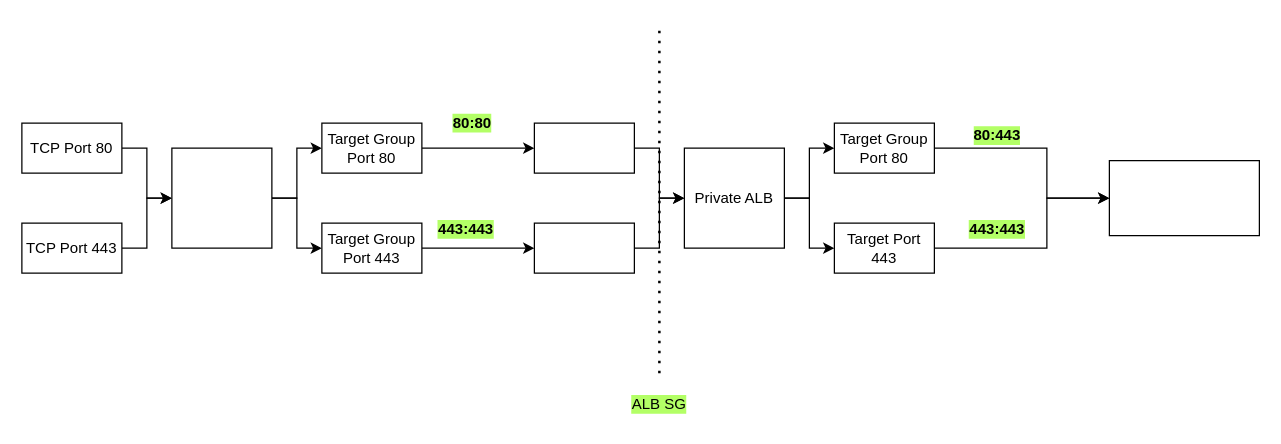
The diagram is 1281 pixels wide and 444 high, and some of its shapes have lost their labels. The shapes that lost their labels are listed below. From the top down, each one's box as (x1, y1, x2, y2) in pixels, then its label:
(533, 122, 634, 173): HTTP Traffic Port 80
(171, 147, 272, 248): Public NLB
(1108, 159, 1259, 236): T-system LB
(533, 222, 634, 273): HTTPS Traffic 443
